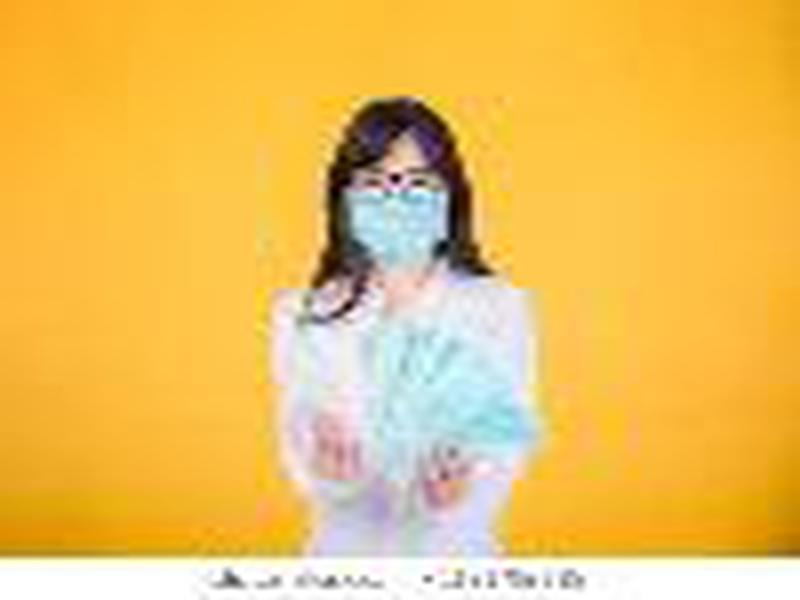with_mask: (337, 133, 452, 272)
